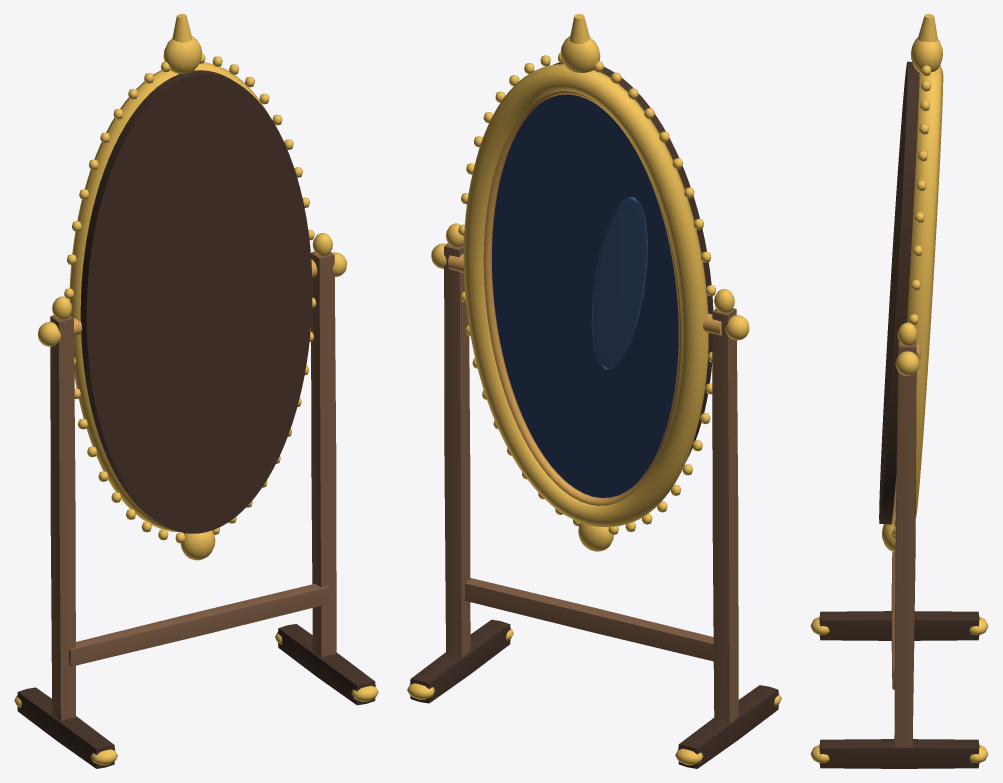
The model's file is detail_magic_mirror.glb.
3 renders of one model, left to right at view 1: azimuth 30°, elevation 25°; view 2: azimuth 150°, elevation 25°; view 3: azimuth 270°, elevation 25°, orthographic. The views are drawn at different scales.
Visible parts, largest first — view 1: wood, metal; view 2: object 3, metal, wood, object 4; view 3: wood, metal.
Part boxes in pixels (x1,y1,x2,y2): wood: (17,70,375,768); metal: (14,14,378,765); object 3: (492,94,678,497); metal: (407,14,781,765); wood: (410,62,778,768); object 4: (591,197,647,369); wood: (819,61,979,768); metal: (810,14,988,763).
Size of the model in its own units: 0.8 by 1.7 by 0.4.
